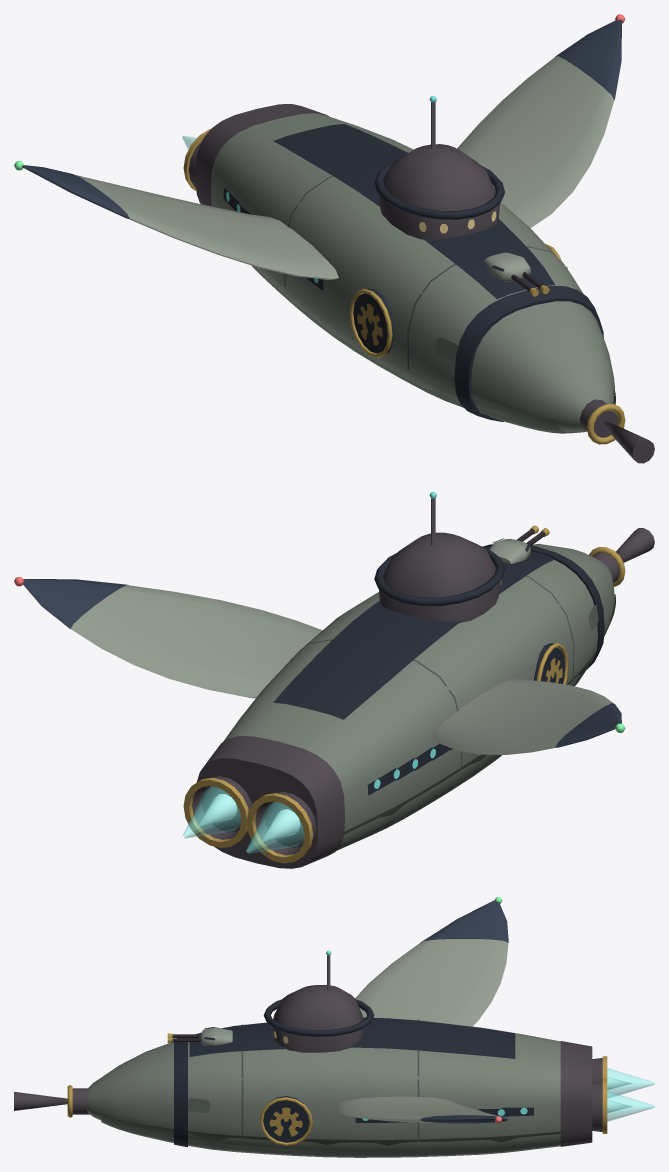
File: elfinia_cruiser.glb
3 views of the same model, one above another, from view 1: azimuth 30°, elevation 25°; view 2: azimuth 150°, elevation 25°; view 3: azimuth 270°, elevation 25° (orthographic). The views are drawn at different scales.
Visible parts, largest first — view 1: elfinia_cruiser_body, elfinia_cruiser_fine; view 2: elfinia_cruiser_body, elfinia_cruiser_fine, elfinia_cruiser_plume, elfinia_cruiser_glow; view 3: elfinia_cruiser_body, elfinia_cruiser_fine, elfinia_cruiser_plume, elfinia_cruiser_glow.
Part boxes in pixels (left/top/right/bottom): elfinia_cruiser_body: left=21, top=19, right=654, bottom=463; elfinia_cruiser_fine: left=207, top=124, right=615, bottom=433; elfinia_cruiser_body: left=22, top=498, right=654, bottom=868; elfinia_cruiser_fine: left=273, top=538, right=615, bottom=853; elfinia_cruiser_plume: left=183, top=786, right=304, bottom=853; elfinia_cruiser_glow: left=14, top=492, right=625, bottom=841; elfinia_cruiser_body: left=14, top=900, right=607, bottom=1157; elfinia_cruiser_fine: left=101, top=1017, right=567, bottom=1157; elfinia_cruiser_plume: left=607, top=1068, right=654, bottom=1121; elfinia_cruiser_glow: left=271, top=897, right=632, bottom=1123.
Bounding box in the file's own units: 29.88 × 12.01 × 36.46.
